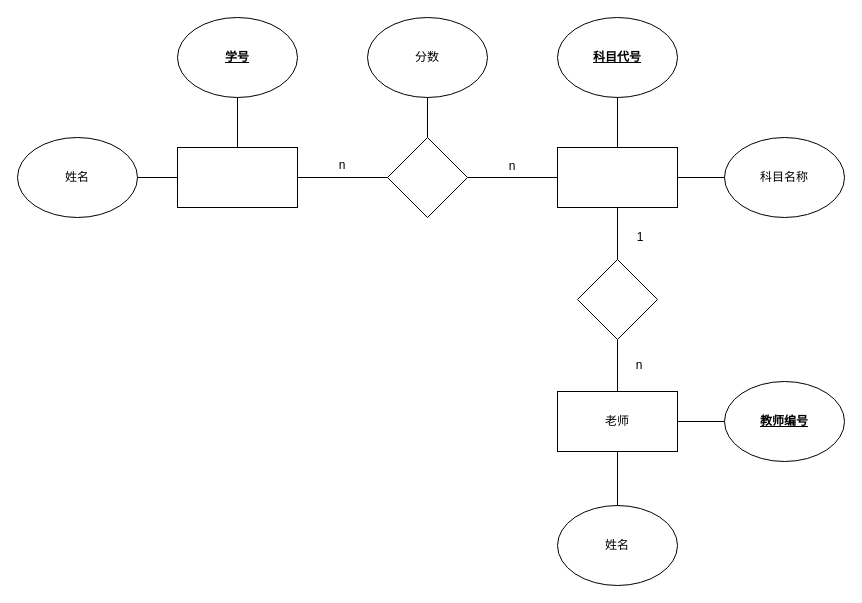
This 862x603 diagram has some shape labels left out. Here are the shapes that lost their labels. From the top down, the box of each, then its label:
(176, 146, 298, 208): 学生
(386, 136, 468, 218): 考试
(556, 146, 678, 208): 科目
(576, 258, 658, 340): 代课
